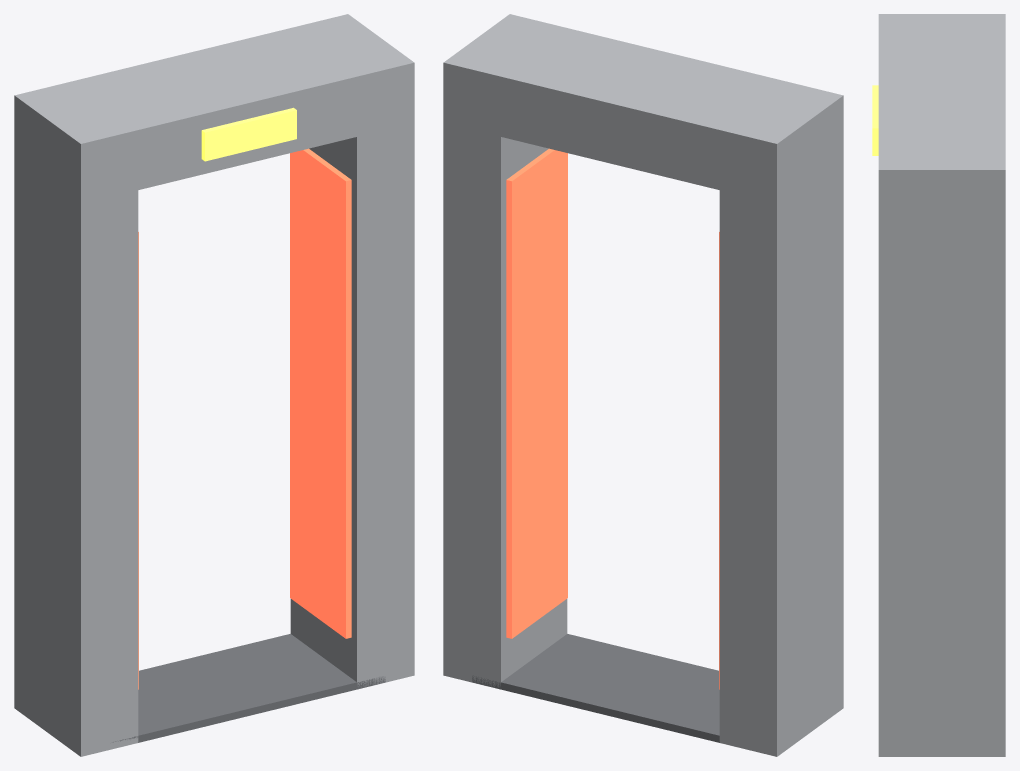
Rendered from SM_Security_Gate.glb.
The picture shows the model from 3 angles, left to right: view 1: azimuth 30°, elevation 25°; view 2: azimuth 150°, elevation 25°; view 3: azimuth 270°, elevation 25°; orthographic projection. The views are drawn at different scales.
Parts seen in each view (by area): view 1: SM_Security_Gate; view 2: SM_Security_Gate; view 3: SM_Security_Gate.
Boxes of the visible parts, box(x1,y1,x2,y2) form: SM_Security_Gate: box(14, 14, 414, 756); SM_Security_Gate: box(443, 14, 843, 756); SM_Security_Gate: box(872, 14, 1005, 756).
Size of the model in its own units: 1.45 by 2.55 by 0.525.
